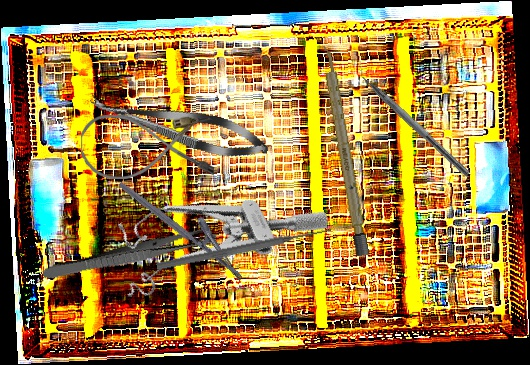Cannula: (81, 115, 214, 179)
Chopper: (347, 57, 479, 179)
Dressing Forceps: (41, 225, 215, 285)
Micro Scissor: (85, 83, 273, 168)
Needle Holder: (117, 164, 257, 282)
Pusher: (155, 224, 333, 273)
Scalpel Handle: (319, 44, 370, 257)
Speculum: (97, 142, 333, 317)
